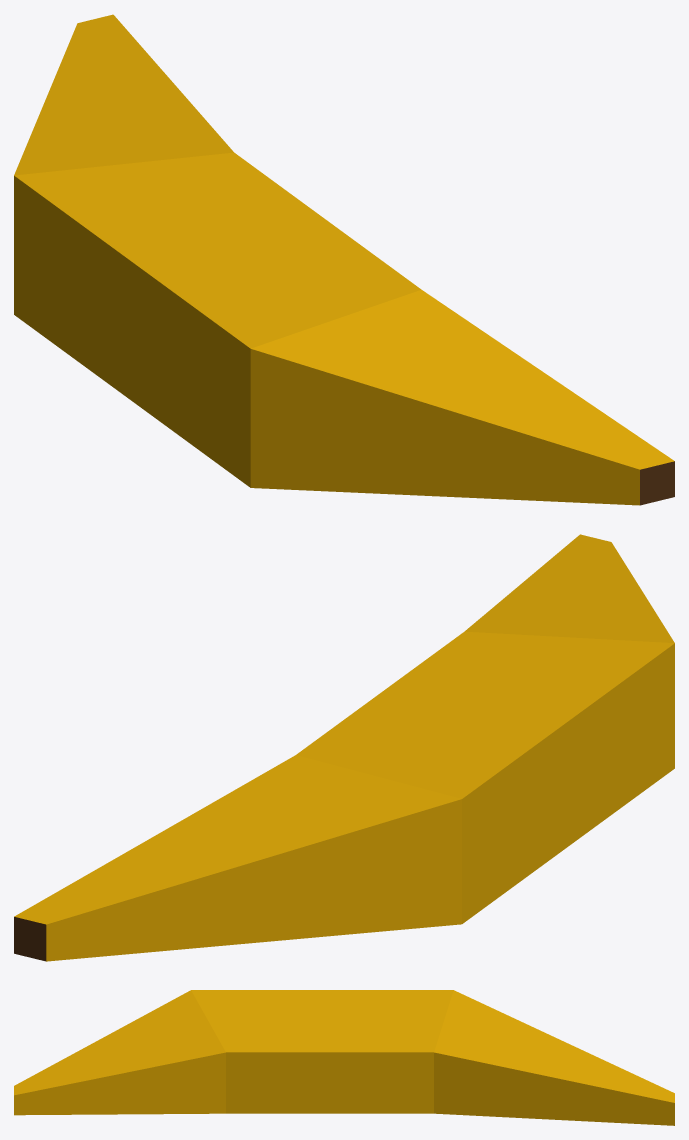
File: banana.fbx
3 views of the same model, one above another, from view 1: azimuth 30°, elevation 25°; view 2: azimuth 150°, elevation 25°; view 3: azimuth 270°, elevation 25° (orthographic). The views are drawn at different scales.
Parts seen in each view (by area): view 1: Banana; view 2: Banana; view 3: Banana.
Boxes of the visible parts, bbox=[...] form: Banana: bbox=[14, 14, 674, 505]; Banana: bbox=[14, 534, 674, 961]; Banana: bbox=[14, 990, 674, 1125].
Size of the model in its own units: 3.49 by 1.55 by 12.05.
